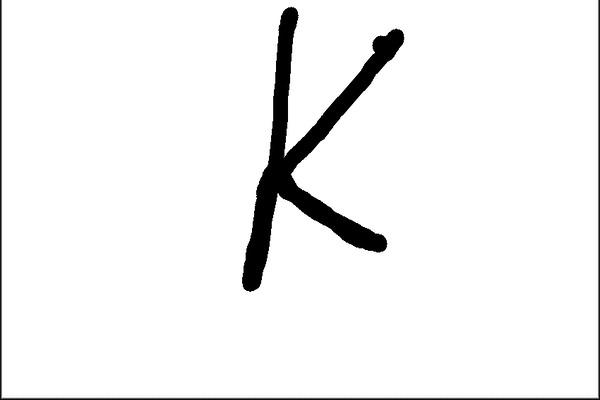K: (235, 2, 412, 293)
